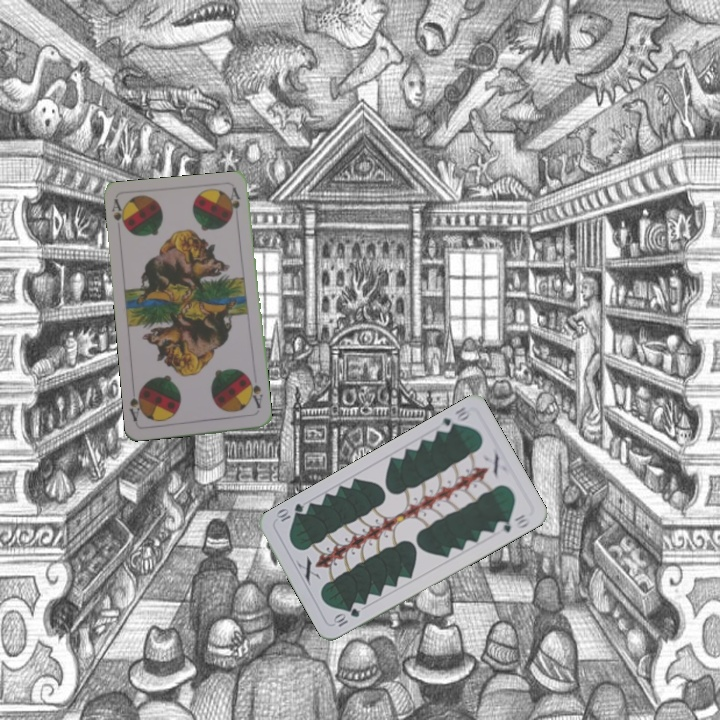G10: (434, 402, 474, 436), (329, 604, 362, 630)
SA: (244, 374, 265, 414), (108, 196, 129, 233)
